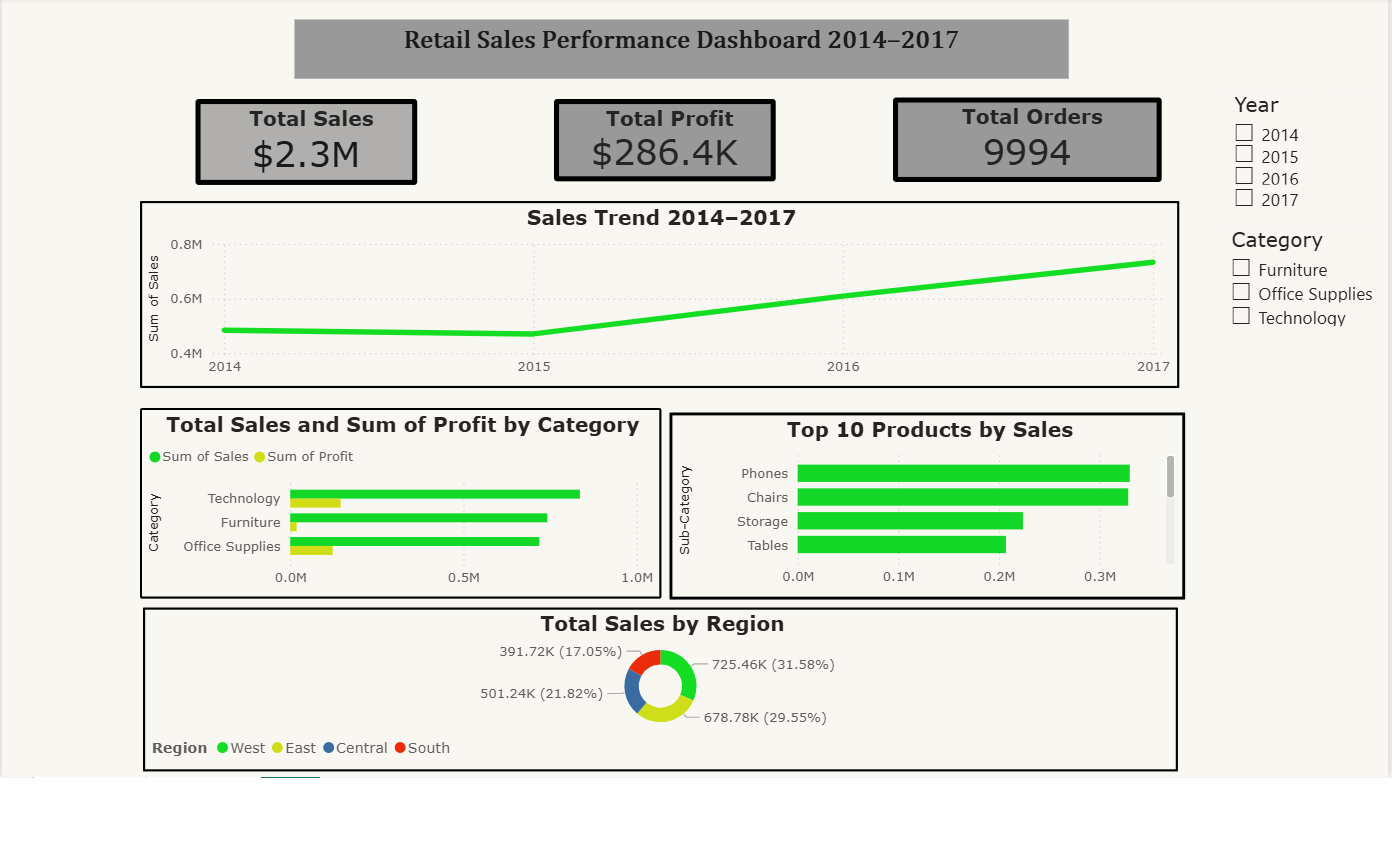

Layout of this report page (visuals, bound fields, positions):
{"tool":"powerbi","page":{"name":"Page 1","canvas":[1280,720],"ordinal":0},"visuals":[{"type":"lineChart","title":"Sales Trend 2014–2017","fields":{"Category":["Sample - Superstore1.Order Date.Variation.Date Hierarchy.Year","Sample - Superstore1.Order Date.Variation.Date Hierarchy.Quarter","Sample - Superstore1.Order Date.Variation.Date Hierarchy.Month","Sample - Superstore1.Order Date.Variation.Date Hierarchy.Day"],"Y":["Sum(Sample - Superstore1.Sales)"]},"box":[127,187.6,959.1,172.5],"z":0},{"type":"clusteredBarChart","title":"Total Sales and Sum of Profit by Category","fields":{"Category":["Sample - Superstore1.Category"],"Y":["Sum(Sample - Superstore1.Sales)","Sum(Sample - Superstore1.Profit)"]},"box":[127,379.1,481.4,176.3],"z":1},{"type":"clusteredBarChart","title":"Top 10 Products by Sales","fields":{"Category":["Sample - Superstore1.Sub-Category"],"Y":["Sum(Sample - Superstore1.Sales)"]},"box":[616,382.9,475.7,172.5],"z":2},{"type":"donutChart","title":"Total Sales by Region","fields":{"Category":["Sample - Superstore1.Region"],"Y":["Sum(Sample - Superstore1.Sales)"]},"box":[130.8,562.9,955.3,151.6],"z":3},{"type":"card","title":"Total Sales","fields":{"Values":["Sum(Sample - Superstore1.Sales)"]},"box":[178.2,94.8,204.7,79.6],"z":4},{"type":"card","title":"Total Profit","fields":{"Values":["Sum(Sample - Superstore1.Profit)"]},"box":[509.9,94.8,204.7,75.8],"z":5},{"type":"card","title":"Total Orders","fields":{"Values":["CountNonNull(Sample - Superstore1.Order ID)"]},"box":[822.6,92.9,248.3,77.7],"z":6},{"type":"textbox","box":[270.2,20.8,714.3,54.8],"z":7},{"type":"listSlicer","fields":{"Values":["Sample - Superstore1.Order Date.Variation.Date Hierarchy.Year"]},"box":[1132,86.9,147.4,196.5],"z":8},{"type":"listSlicer","fields":{"Values":["Sample - Superstore1.Category"]},"box":[1129.6,212.3,149.7,212.3],"z":9}]}

Visuals, with their boxes in screenshot pixels (x1, y1, x2, y2):
"Sales Trend 2014–2017" lineChart: select_region(140, 198, 1168, 383)
"Total Sales and Sum of Profit by Category" clusteredBarChart: select_region(140, 403, 656, 592)
"Top 10 Products by Sales" clusteredBarChart: select_region(664, 407, 1174, 592)
"Total Sales by Region" donutChart: select_region(144, 600, 1168, 763)
"Total Sales" card: select_region(195, 98, 414, 183)
"Total Profit" card: select_region(550, 98, 770, 179)
"Total Orders" card: select_region(886, 96, 1152, 179)
textbox: select_region(293, 19, 1059, 77)
listSlicer - Sample - Superstore1.Order Date.Variation.Date Hierarchy.Year: select_region(1218, 90, 1376, 300)
listSlicer - Sample - Superstore1.Category: select_region(1215, 224, 1376, 452)
